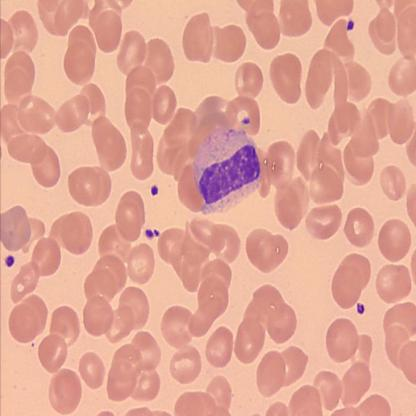Metamyelocyte: (191, 123, 266, 219)
